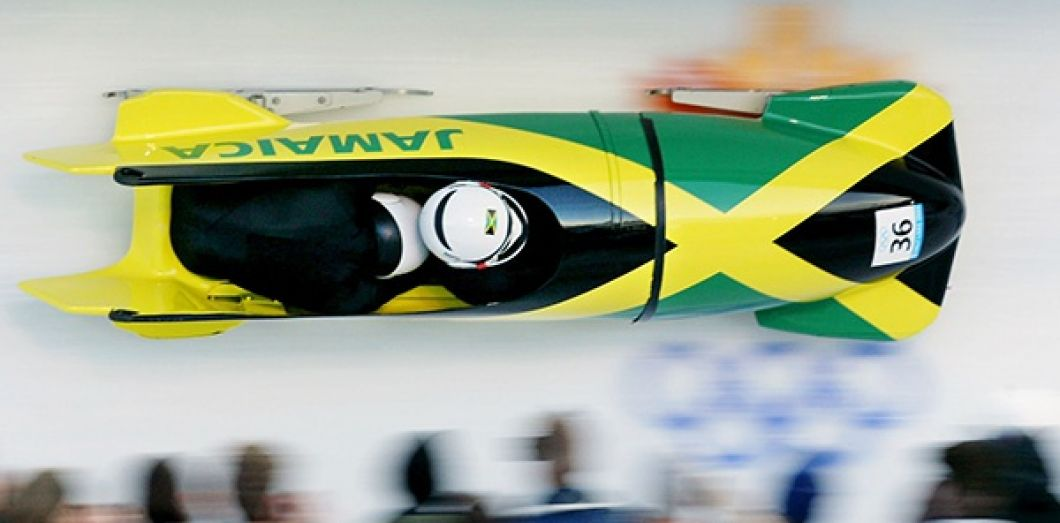Bobsleigh: (17, 87, 964, 340)
